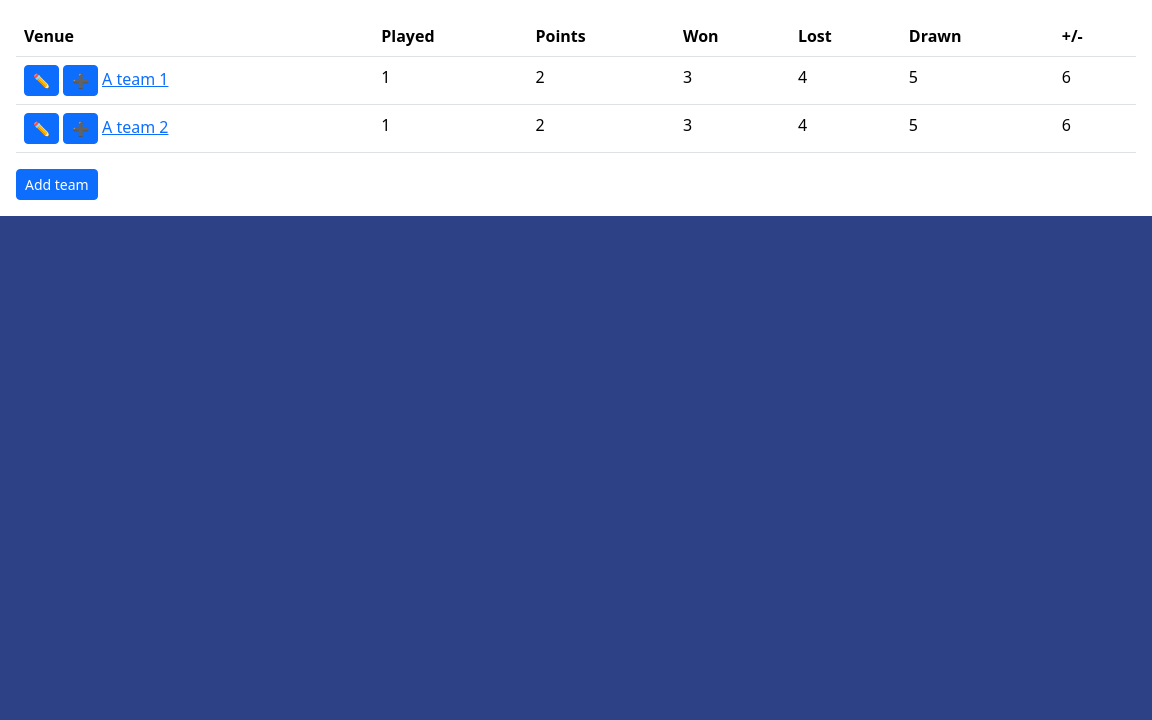
Test: DivisionTeams › when logged in › renders add team dialog
What coordinates should you click on to do the following:
click the button "Add team"
I would click on:
 (57, 184)
Its box is [16,169,98,200].
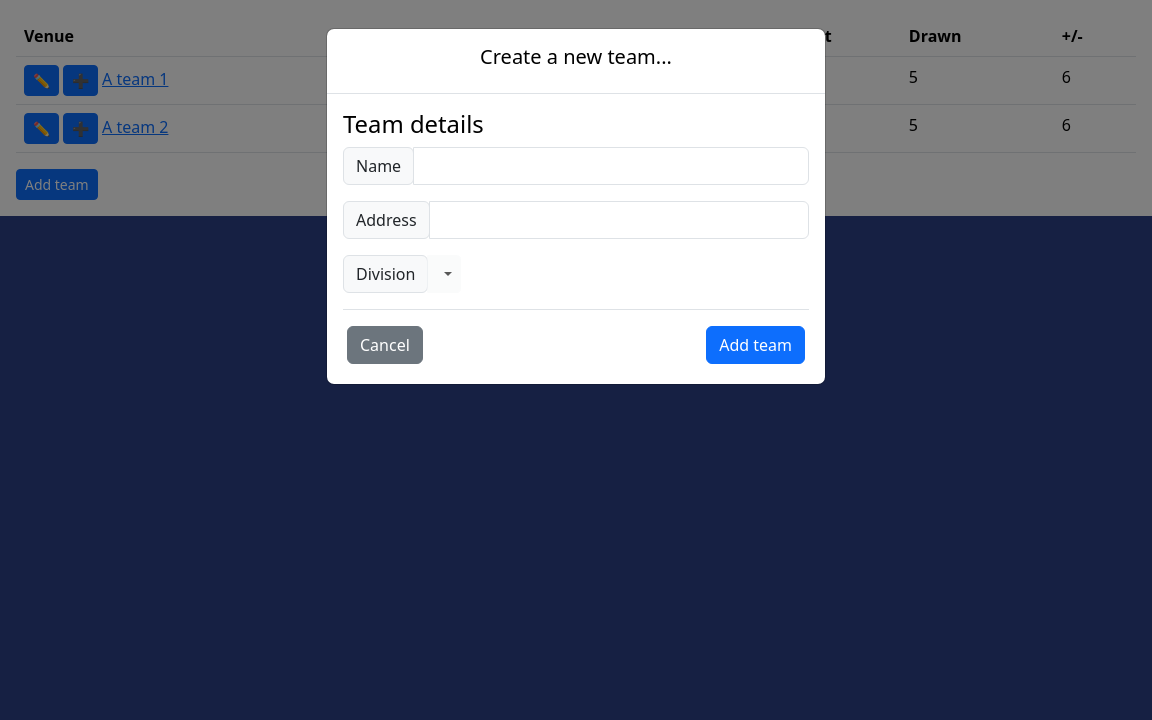
Expected: the element with class "modal-dialog" is shown, [326,28,826,385]
Expected: the element with class "modal-dialog" shows "Create a new team...", [480,43,672,70]
